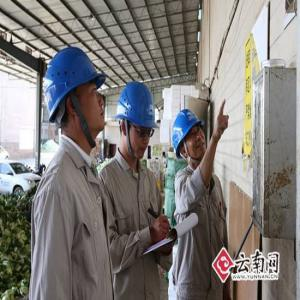blue: (43, 46, 110, 157), (115, 84, 156, 159), (173, 109, 209, 169)
